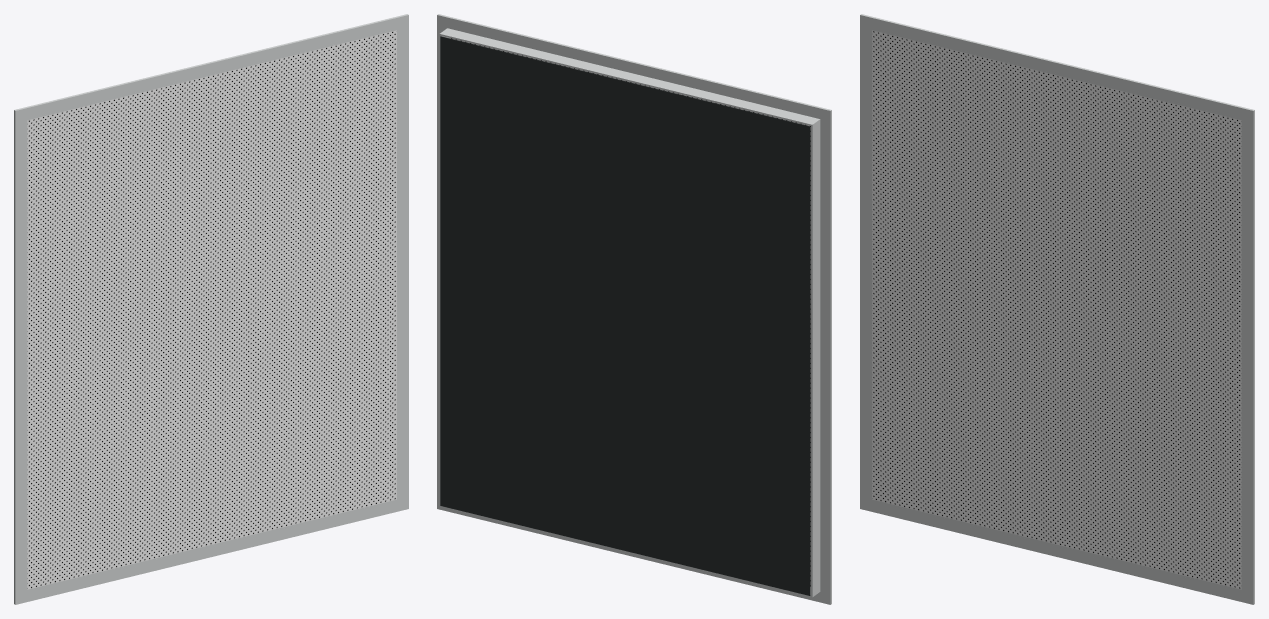
Rendered from ecoclima-egfr-500x600.glb.
3 renders of one model, left to right at view 1: azimuth 30°, elevation 25°; view 2: azimuth 150°, elevation 25°; view 3: azimuth 330°, elevation 25°, orthographic.
Visible parts, largest first — view 1: Profile_lamiera_forata.001, Profile_cornice.115, Profile_cornice.113, Profile_cornice.116, Profile_cornice.114; view 2: Interno.032, Profile_cornice.115, Profile_cornice.113, Profile_ritorno.122, Profile_ritorno.120, Profile_cornice.114, Profile_cornice.116, Profile_ritorno.123, Profile_lamiera_forata.001, Profile_ritorno.121; view 3: Profile_lamiera_forata.001, Profile_cornice.116, Profile_cornice.113, Profile_cornice.115, Profile_cornice.114.
Part boxes in pixels (box(x1,y1,x2,y2)): Profile_lamiera_forata.001: box(27, 30, 396, 589); Profile_cornice.115: box(14, 120, 27, 592); Profile_cornice.113: box(14, 14, 408, 123); Profile_cornice.116: box(397, 27, 408, 499); Profile_cornice.114: box(14, 496, 408, 604); Interno.032: box(440, 36, 810, 595); Profile_cornice.115: box(820, 121, 831, 592); Profile_cornice.113: box(437, 14, 831, 123); Profile_ritorno.122: box(811, 121, 820, 595); Profile_ritorno.120: box(439, 28, 820, 126); Profile_cornice.114: box(437, 496, 831, 604); Profile_cornice.116: box(437, 27, 449, 496); Profile_ritorno.123: box(439, 35, 448, 504); Profile_lamiera_forata.001: box(450, 38, 810, 586); Profile_ritorno.121: box(439, 505, 820, 597); Profile_lamiera_forata.001: box(872, 30, 1241, 589); Profile_cornice.116: box(1241, 120, 1254, 592); Profile_cornice.113: box(860, 14, 1254, 123); Profile_cornice.115: box(860, 27, 871, 499); Profile_cornice.114: box(860, 496, 1254, 604).
Bounding box in the file's own units: 0.5 × 0.6 × 0.022.
3 materials, 1 textured.
